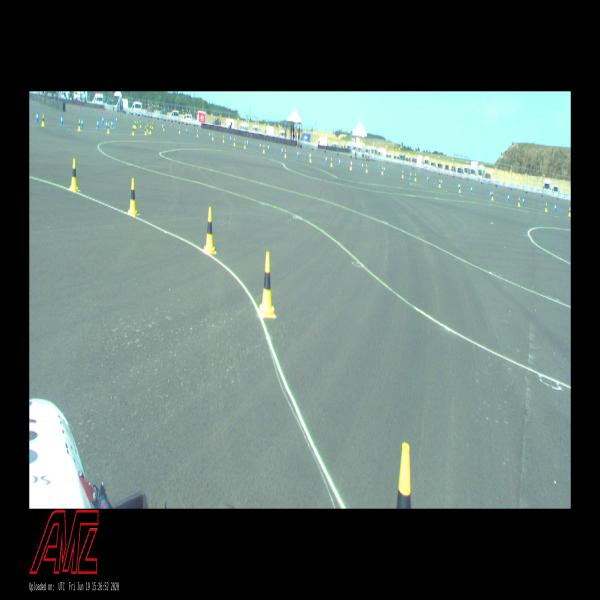blue_cone: (105, 120, 108, 128), (36, 111, 38, 122), (470, 186, 473, 193), (61, 115, 63, 125), (82, 118, 84, 128), (111, 119, 113, 128), (522, 196, 524, 205), (97, 120, 99, 128), (490, 190, 492, 198), (508, 194, 510, 202), (554, 203, 556, 211)
yellow_cone: (259, 252, 275, 318), (396, 444, 411, 508), (204, 207, 216, 254), (128, 178, 138, 215), (70, 159, 78, 191), (78, 119, 81, 131), (107, 123, 110, 134), (132, 125, 135, 135), (568, 207, 571, 216), (42, 114, 44, 126), (144, 127, 147, 135), (309, 154, 312, 162), (381, 166, 384, 174), (401, 170, 404, 178), (491, 192, 494, 200), (518, 197, 520, 206), (545, 203, 547, 212), (150, 126, 152, 134), (140, 120, 142, 128), (244, 141, 246, 149), (263, 145, 265, 153), (284, 149, 286, 157), (330, 158, 332, 166), (350, 162, 352, 170), (366, 164, 368, 172), (439, 180, 441, 188), (459, 184, 461, 192), (414, 173, 416, 180), (134, 122, 136, 128), (222, 136, 224, 142), (147, 124, 148, 132), (234, 138, 235, 146), (152, 123, 153, 129)
